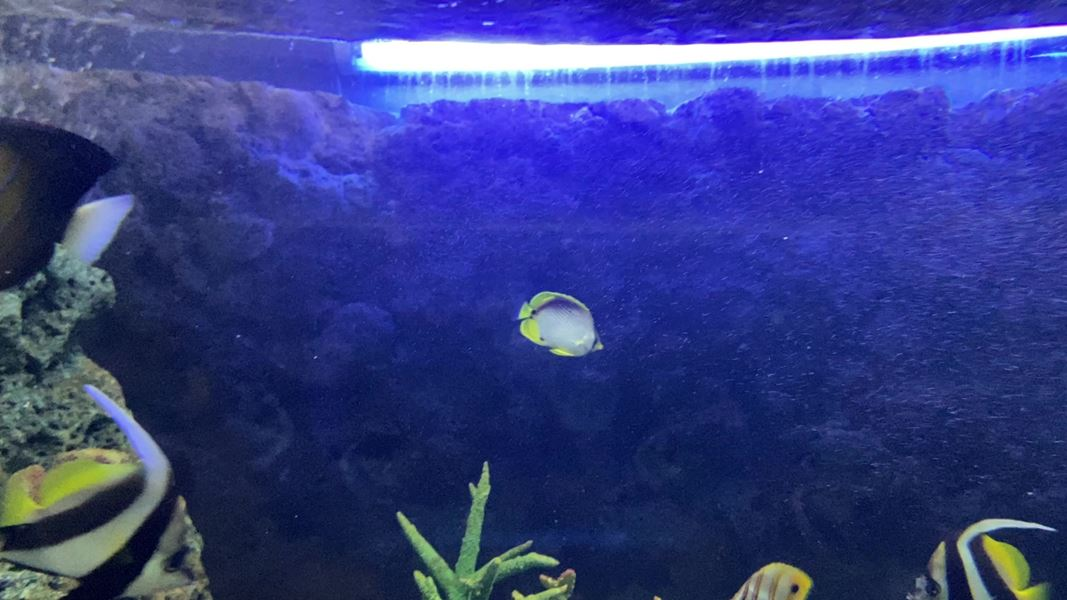Black-backed butterflyfish: (503, 287, 615, 364)
